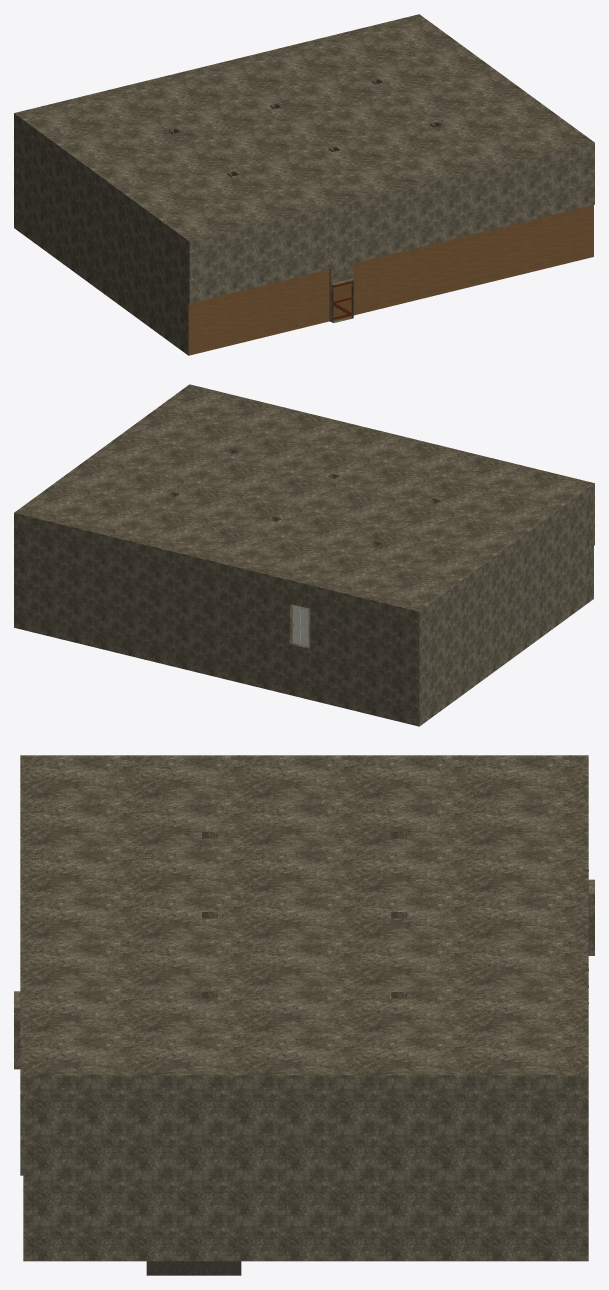
File: construction.glb
The picture shows the model from 3 angles, top to bottom: view 1: azimuth 30°, elevation 25°; view 2: azimuth 150°, elevation 25°; view 3: azimuth 270°, elevation 25°; orthographic projection. The views are drawn at different scales.
Parts seen in each view (by area): view 1: X_Skin_Soffit_Concrete, X_Skin_Block_Bare, X_Skin_Hoarding_Ply, DoorLeaf_wing_books; view 2: X_Skin_Soffit_Concrete, X_Skin_Block_Bare, DoorLeaf_sky_hall_04; view 3: X_Skin_Soffit_Concrete, X_Skin_Block_Bare, X_Skin_Pit_Concrete.
Boxes of the visible parts, x1,y1,x2,y2 form: X_Skin_Soffit_Concrete: (14,14,594,241); X_Skin_Block_Bare: (14,113,594,355); X_Skin_Hoarding_Ply: (188,205,593,355); DoorLeaf_wing_books: (333,280,351,321); X_Skin_Soffit_Concrete: (14,384,594,611); X_Skin_Block_Bare: (14,483,594,726); DoorLeaf_sky_hall_04: (292,606,308,646); X_Skin_Soffit_Concrete: (20,755,588,1075); X_Skin_Block_Bare: (14,879,594,1261); X_Skin_Pit_Concrete: (146,1261,241,1275).
Size of the model in its own units: 24 by 7.7 by 18.4.
Materials: 50 (34 with a texture image).
